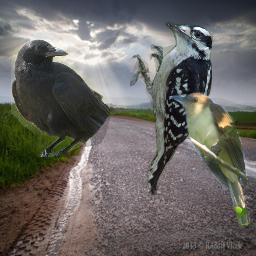Crow: (11, 39, 110, 157)
Cuckoo: (167, 91, 253, 232)
Woodpecker: (130, 20, 223, 195)
